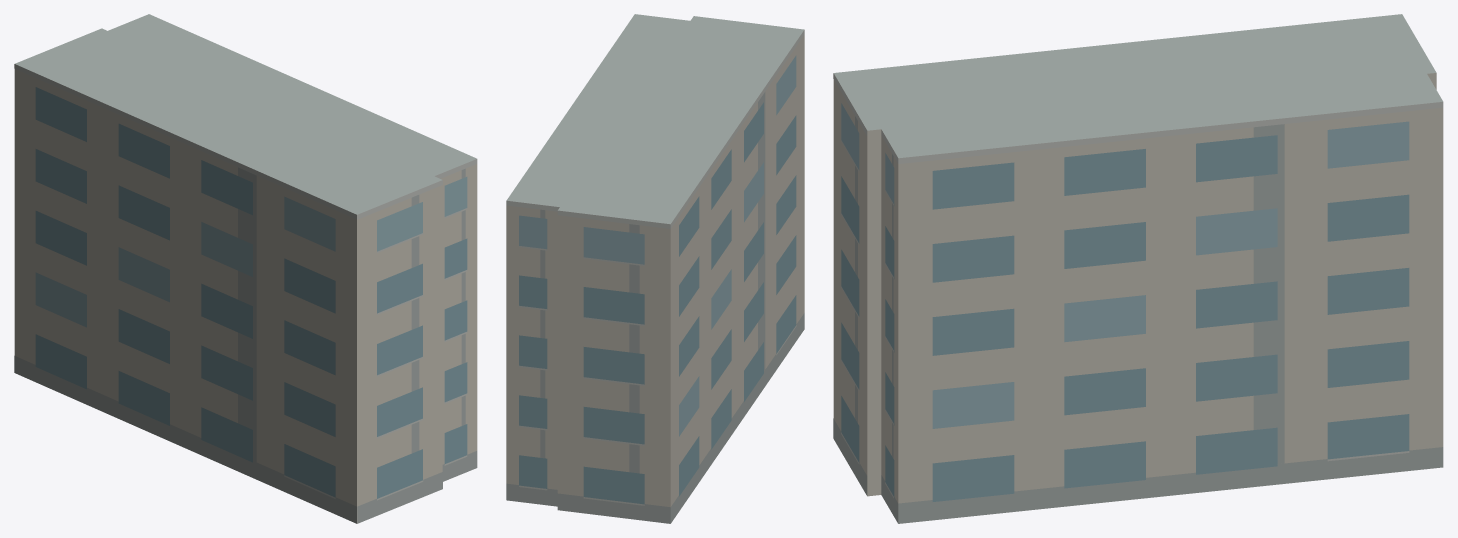
The model's file is survey-upis-32765539.glb.
The picture shows the model from 3 angles, left to right: view 1: azimuth 30°, elevation 25°; view 2: azimuth 150°, elevation 25°; view 3: azimuth 270°, elevation 25°; orthographic projection. The views are drawn at different scales.
Visible parts, largest first — view 1: survey-upis-32765539.tmp; view 2: survey-upis-32765539.tmp; view 3: survey-upis-32765539.tmp.
Boxes of the visible parts, x1=… form: survey-upis-32765539.tmp: x1=14, y1=14, x2=477, y2=523; survey-upis-32765539.tmp: x1=506, y1=14, x2=804, y2=523; survey-upis-32765539.tmp: x1=833, y1=14, x2=1443, y2=523.
Size of the model in its own units: 12.86 by 15.19 by 22.97.
